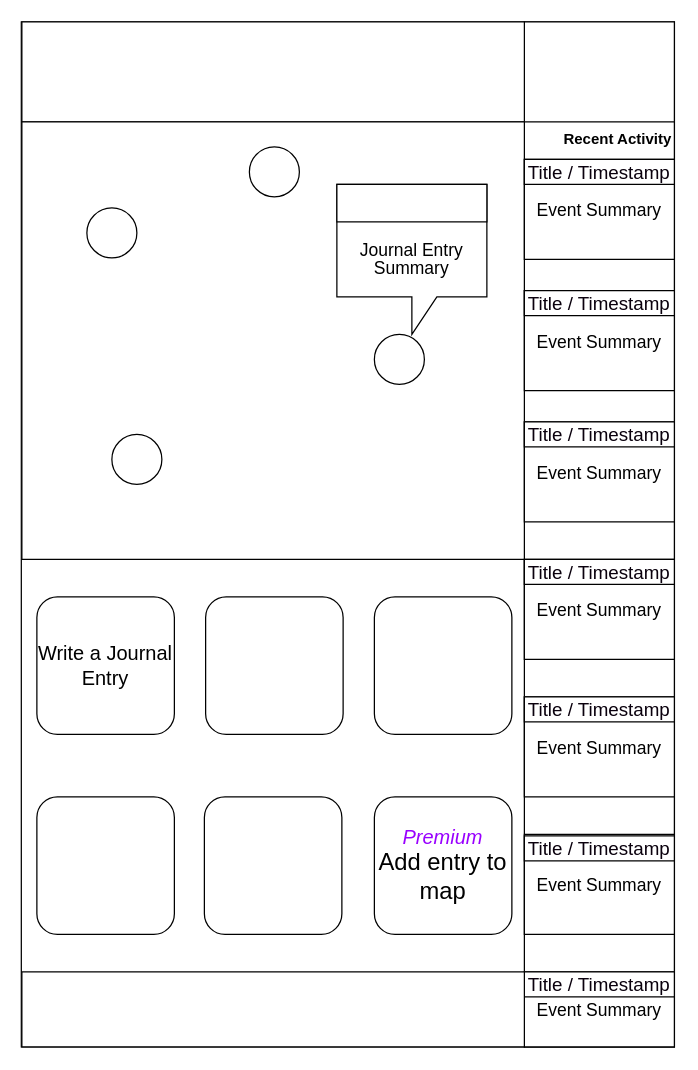
The diagram is 698 pixels wide and 1070 high, and some of its shapes have lost their labels. Here are the shapes that lost their labels. From the top down, the centre of each, then its label:
pixel 272 71: Aviary
pixel 598 96: User Profile User Settings User Activity
pixel 411 202: Bird Name
